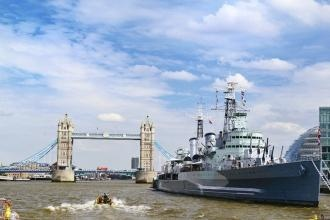warship: (148, 71, 323, 204)
